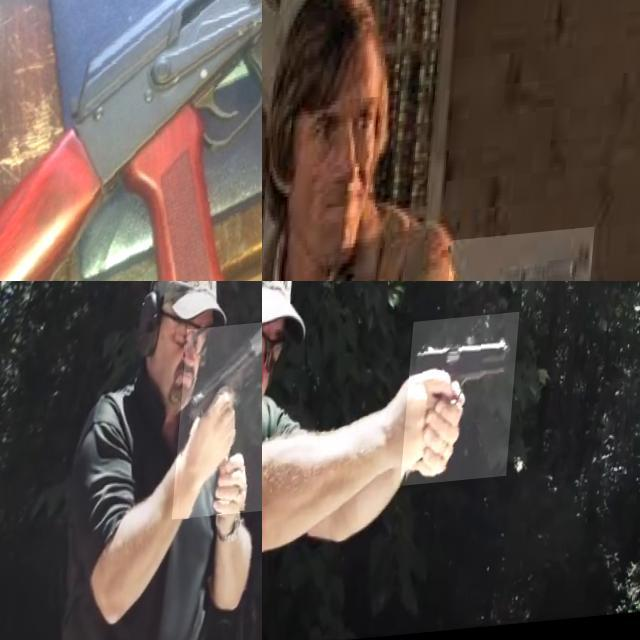gun-knife-thesis - v11 Yolov5 augmented: (0, 0, 262, 281), (409, 319, 526, 492), (178, 327, 262, 524)
